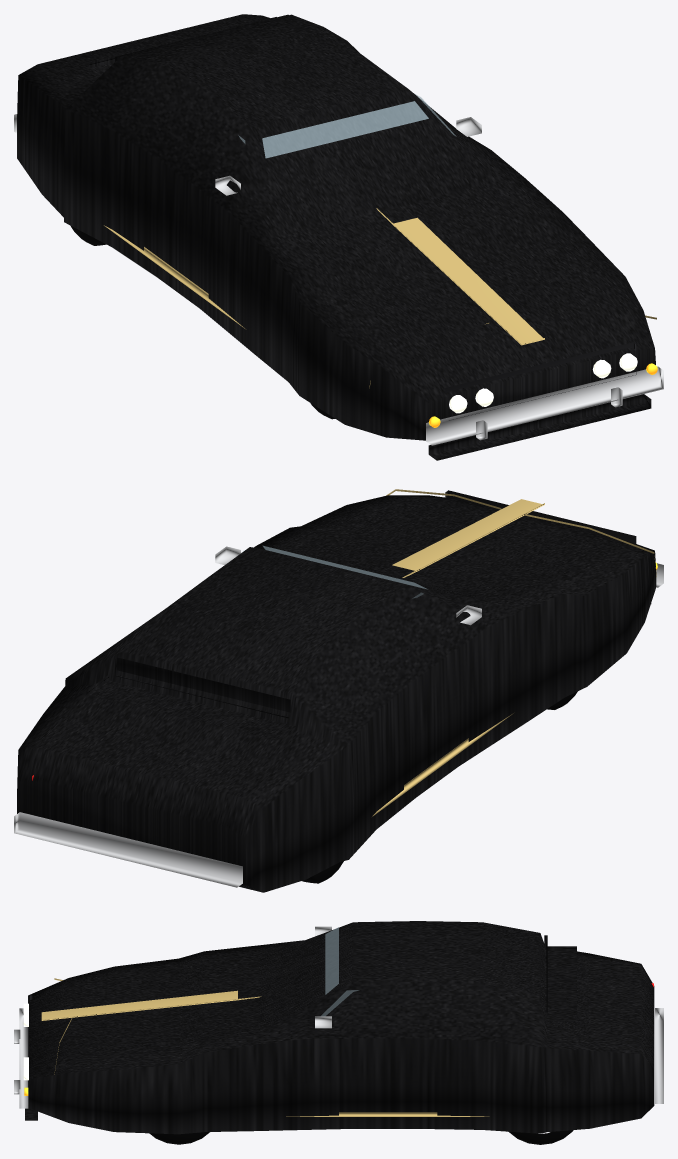
The model's file is javelin-amx.glb.
The picture shows the model from 3 angles, top to bottom: view 1: azimuth 30°, elevation 25°; view 2: azimuth 150°, elevation 25°; view 3: azimuth 270°, elevation 25°; orthographic projection. The views are drawn at different scales.
Visible parts, largest first — view 1: Body, Bumper_Front, Hood_T_Stripe, Glass, Grille, Headlights, Mirrors; view 2: Body, Bumper_Rear, Hood_T_Stripe, Grille, Glass, Mirrors; view 3: Body, Hood_T_Stripe, Glass, Bumper_Front, Bumper_Rear, Wheel_RR, Wheel_FR, Mirrors.
Part boxes in pixels (<box>): Body: <box>17,14,655,460</box>; Bumper_Front: <box>426,366,663,445</box>; Hood_T_Stripe: <box>104,208,656,388</box>; Glass: <box>238,94,456,158</box>; Grille: <box>445,342,636,420</box>; Headlights: <box>449,353,637,413</box>; Mirrors: <box>215,117,481,195</box>; Body: <box>17,495,656,892</box>; Bumper_Rear: <box>14,812,242,887</box>; Hood_T_Stripe: <box>372,489,656,816</box>; Grille: <box>445,490,636,543</box>; Glass: <box>243,546,427,598</box>; Mirrors: <box>215,546,481,625</box>; Body: <box>25,921,654,1134</box>; Hood_T_Stripe: <box>41,978,489,1116</box>; Glass: <box>321,927,358,1016</box>; Bumper_Front: <box>14,1008,28,1108</box>; Bumper_Rear: <box>655,1008,663,1103</box>; Wheel_RR: <box>508,1130,573,1144</box>; Wheel_FR: <box>149,1132,209,1144</box>; Mirrors: <box>315,926,331,1028</box>.
Size of the model in its own units: 1.96 by 1.29 by 5.02.
Materials: 10 (2 with a texture image).
